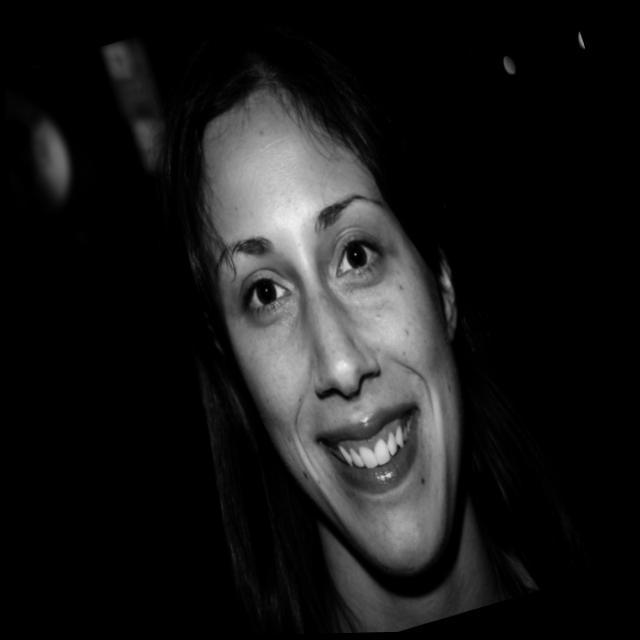Puffy Eyes - v3 Dark Circle: (327, 257, 389, 306), (240, 295, 295, 337)
